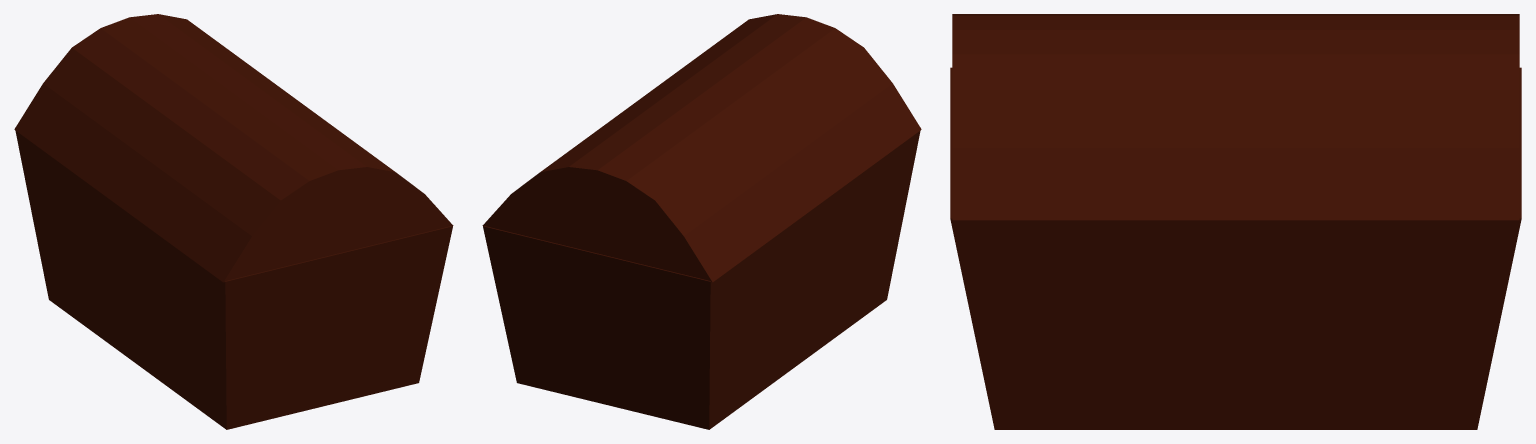
File: chestlx_closed.fbx
The picture shows the model from 3 angles, left to right: view 1: azimuth 30°, elevation 25°; view 2: azimuth 150°, elevation 25°; view 3: azimuth 270°, elevation 25°; orthographic projection. The views are drawn at different scales.
Parts seen in each view (by area): view 1: Plane.003, Cube.003; view 2: Plane.003, Cube.003; view 3: Plane.003, Cube.003.
Boxes of the visible parts, bbox=[...] form: Plane.003: bbox=[14, 14, 453, 282]; Cube.003: bbox=[15, 130, 452, 429]; Plane.003: bbox=[482, 14, 921, 282]; Cube.003: bbox=[483, 130, 920, 429]; Plane.003: bbox=[952, 14, 1519, 220]; Cube.003: bbox=[950, 67, 1521, 429].
Bounding box in the file's own units: 236 × 243 × 374.
